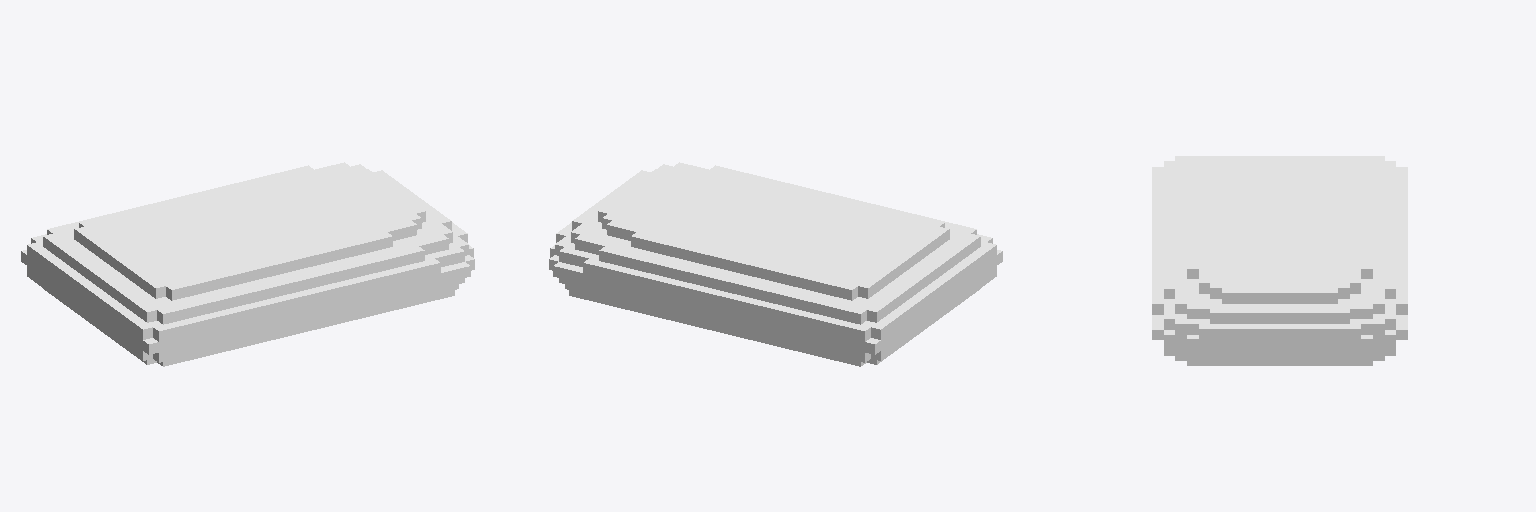
Rendered from bloodbag.obj.
The picture shows the model from 3 angles: view 1: azimuth 30°, elevation 25°; view 2: azimuth 150°, elevation 25°; view 3: azimuth 270°, elevation 25°; orthographic projection.
Parts seen in each view (by area): view 1: bloodbag; view 2: bloodbag; view 3: bloodbag.
Boxes of the visible parts, <box> form: bloodbag: <box>21,162,474,366</box>; bloodbag: <box>549,162,1002,366</box>; bloodbag: <box>1152,156,1407,365</box>.
Size of the model in its own units: 34 by 6 by 22.